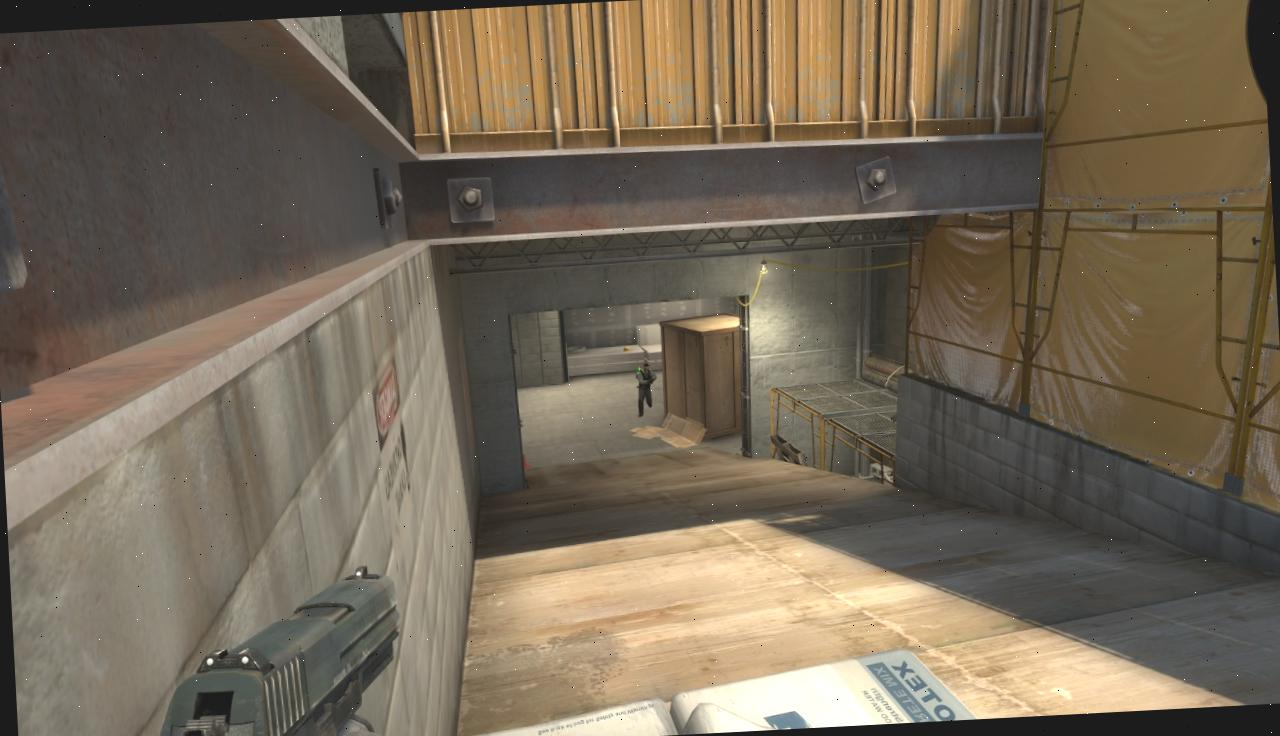pistol: (147, 566, 409, 736)
tt: (634, 362, 659, 416)
tthead: (642, 362, 650, 372)
